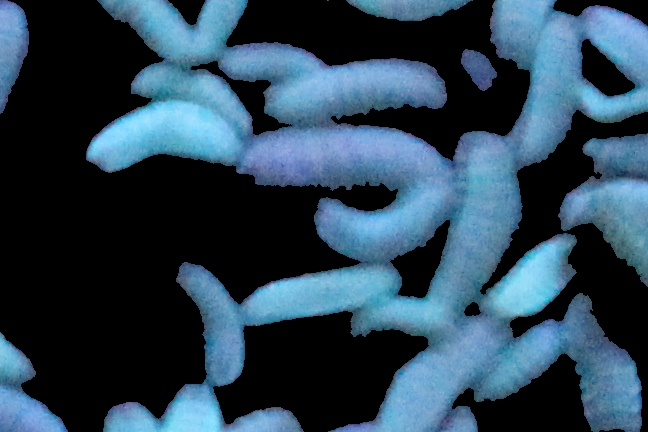larvae: (433, 125, 529, 323), (247, 50, 463, 135), (365, 326, 509, 432), (79, 99, 250, 188), (245, 127, 445, 202), (232, 259, 410, 339), (176, 252, 256, 386), (307, 191, 453, 260), (519, 4, 581, 164), (569, 297, 642, 432), (562, 177, 648, 285), (478, 233, 579, 318), (131, 60, 250, 128), (90, 1, 212, 60), (485, 320, 561, 401), (585, 9, 648, 88), (347, 1, 512, 30), (1, 1, 36, 134), (216, 39, 324, 82), (353, 299, 450, 344), (2, 377, 68, 432)
